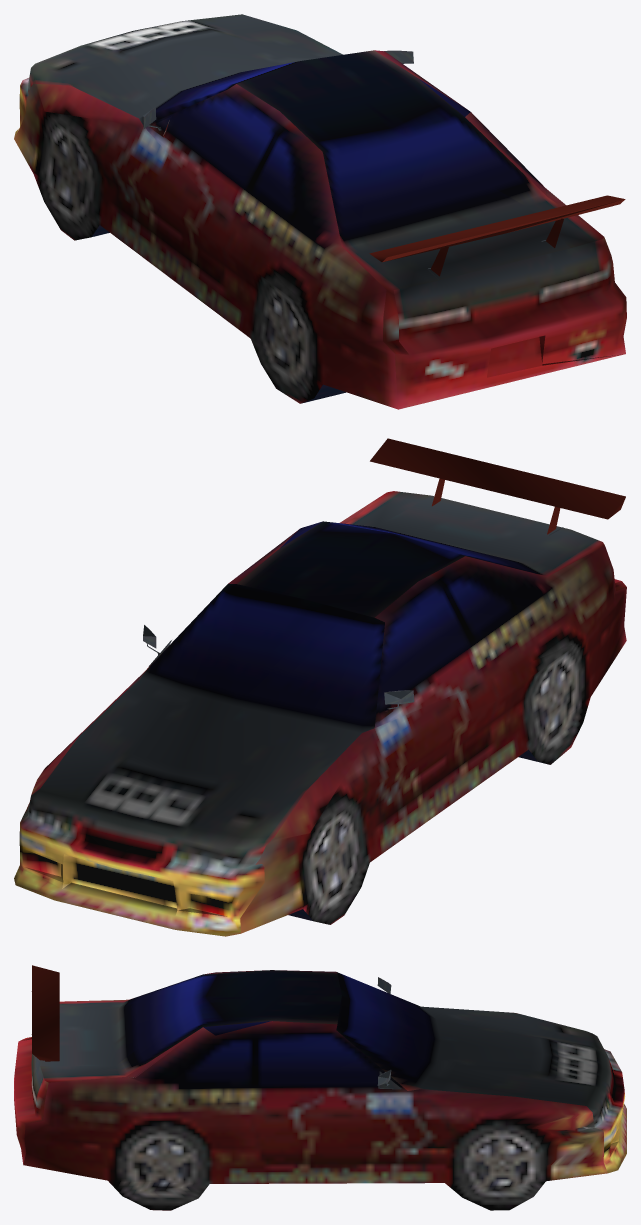
The model's file is iconlst.icn.obj.
3 views of the same model, one above another, from view 1: azimuth 30°, elevation 25°; view 2: azimuth 150°, elevation 25°; view 3: azimuth 270°, elevation 25° (orthographic). The views are drawn at different scales.
Bounding box in the file's own units: 1.43 × 1.07 × 3.61.
1 material, 1 textured.
